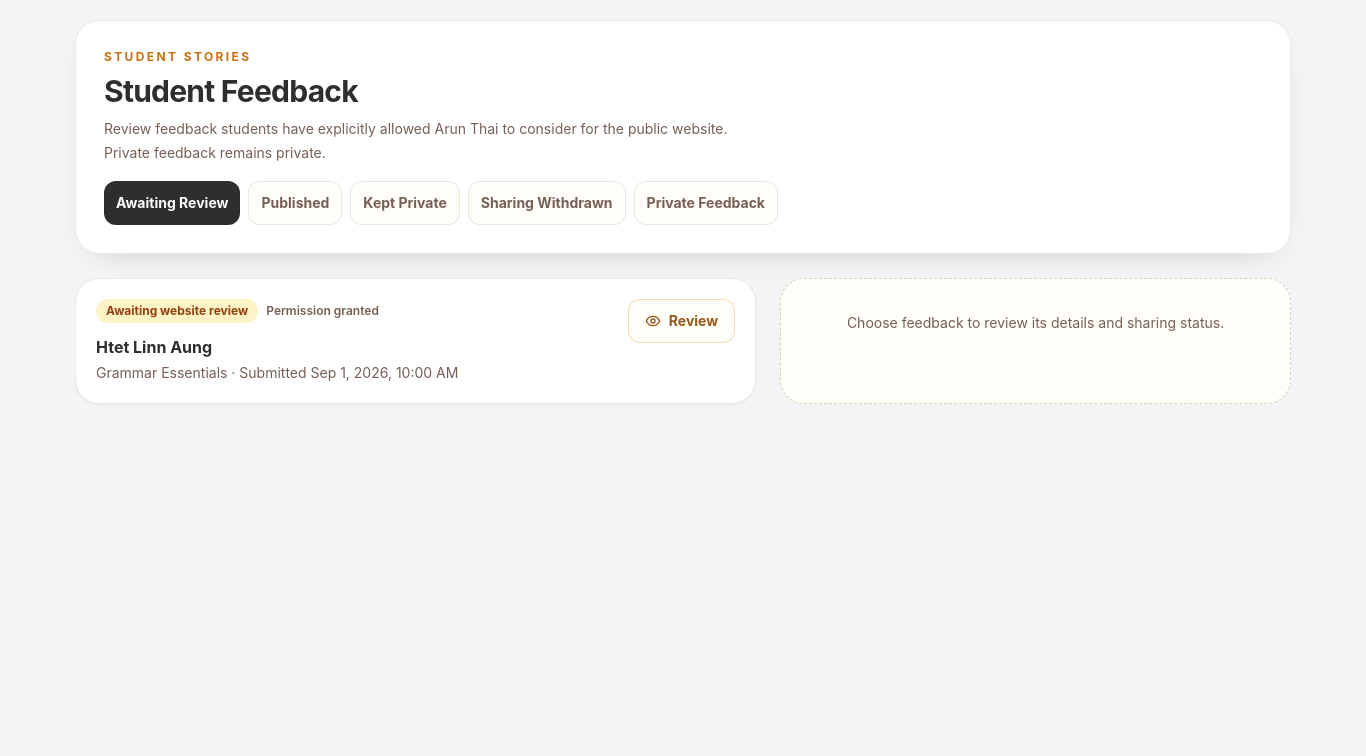
Test case: StudentFeedback admin review › shows server-derived preview in permitted feedback detail
Click the button "Review" at {"x": 682, "y": 321}, box [628,299,735,343]
(page scrolled)
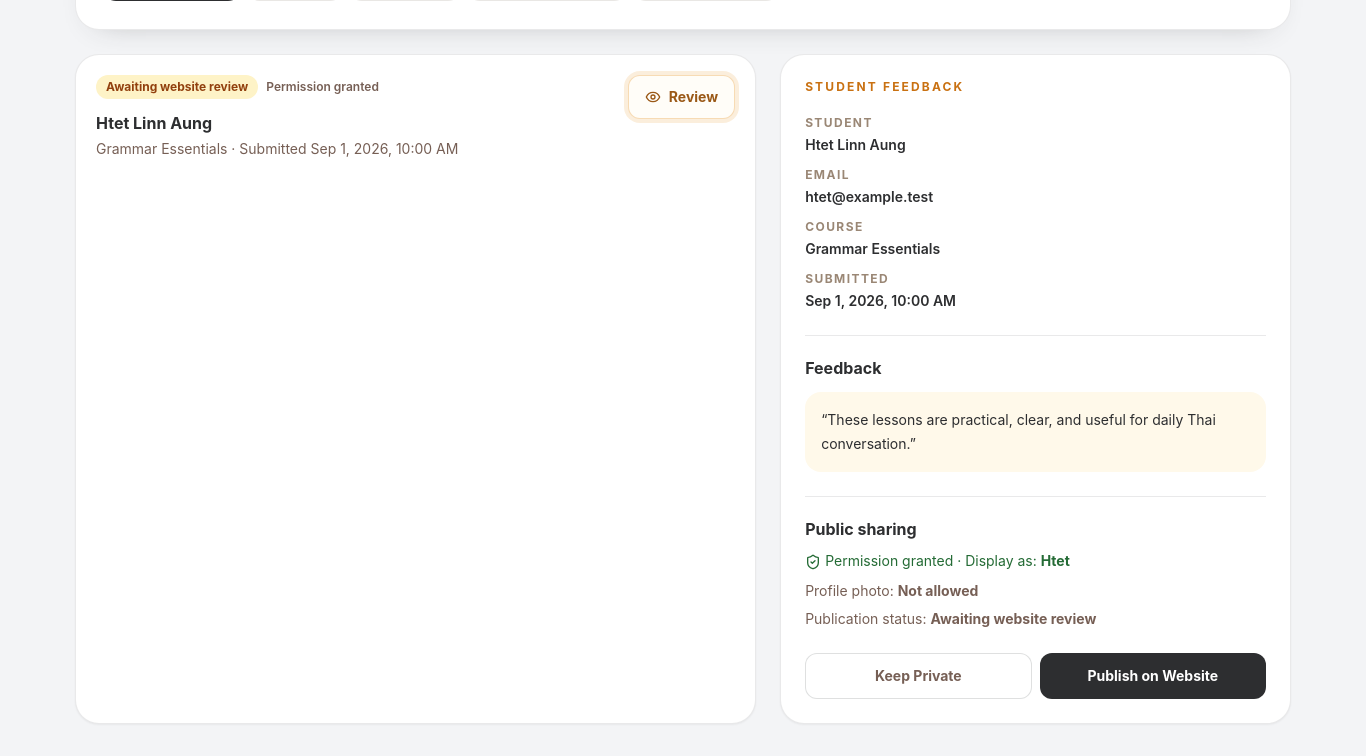
expect the text "Permission granted · Display as: Htet" is shown: met, box [805,552,1070,570]
expect the text "Htet" is shown: met, box [1041,552,1070,569]
